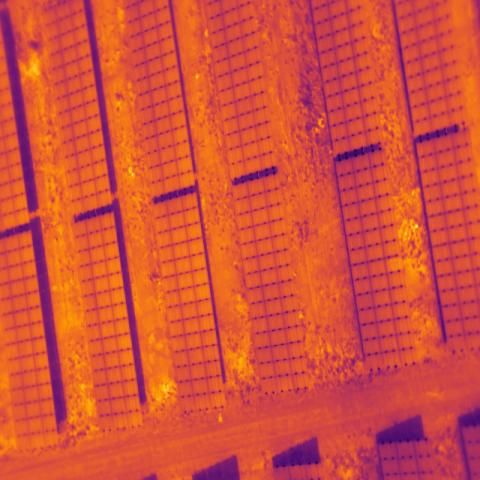fault: (384, 257, 403, 274)
